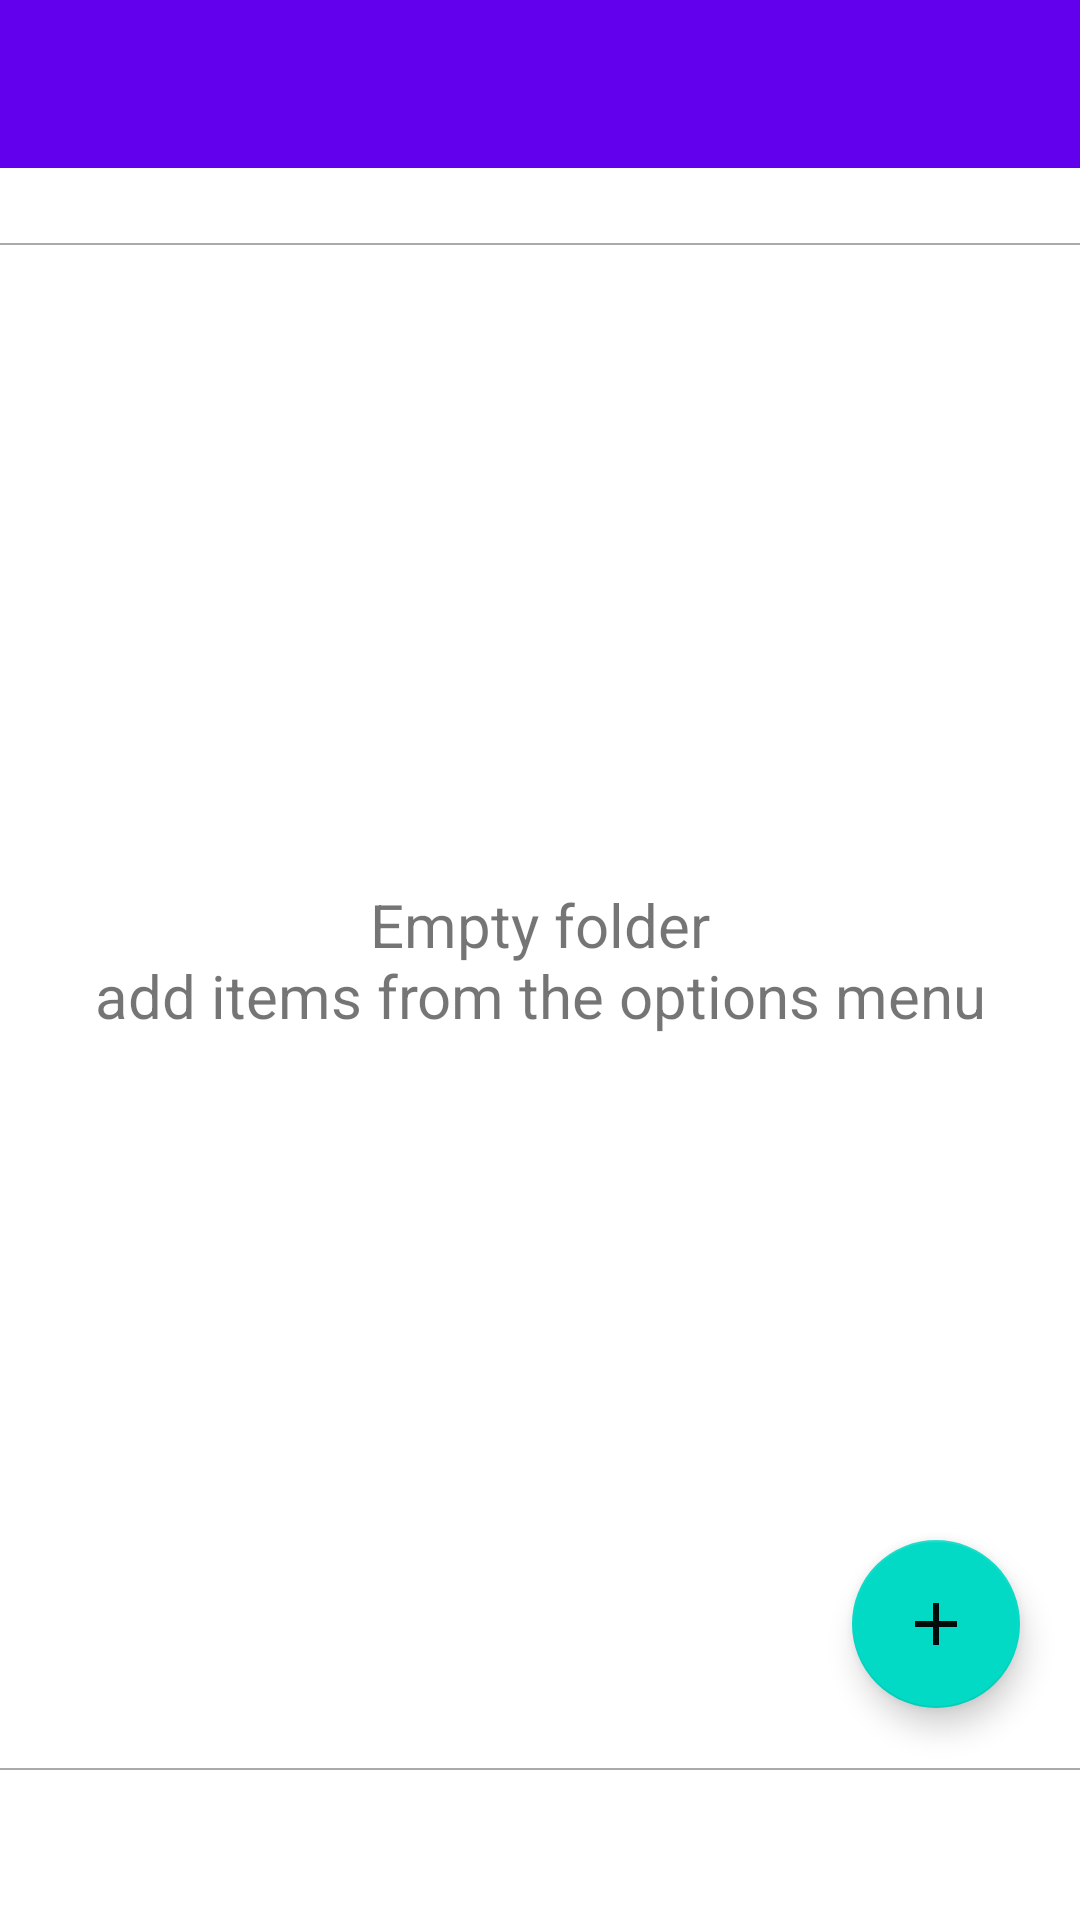

Screen size 1080x1920. Icon name, then its center in pixels as point (x, y):
Add: point (936, 1624)
